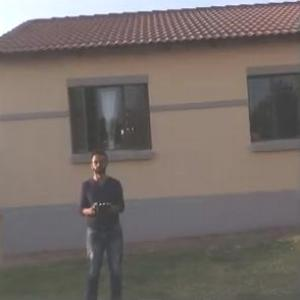follow: (76, 144, 130, 299)
